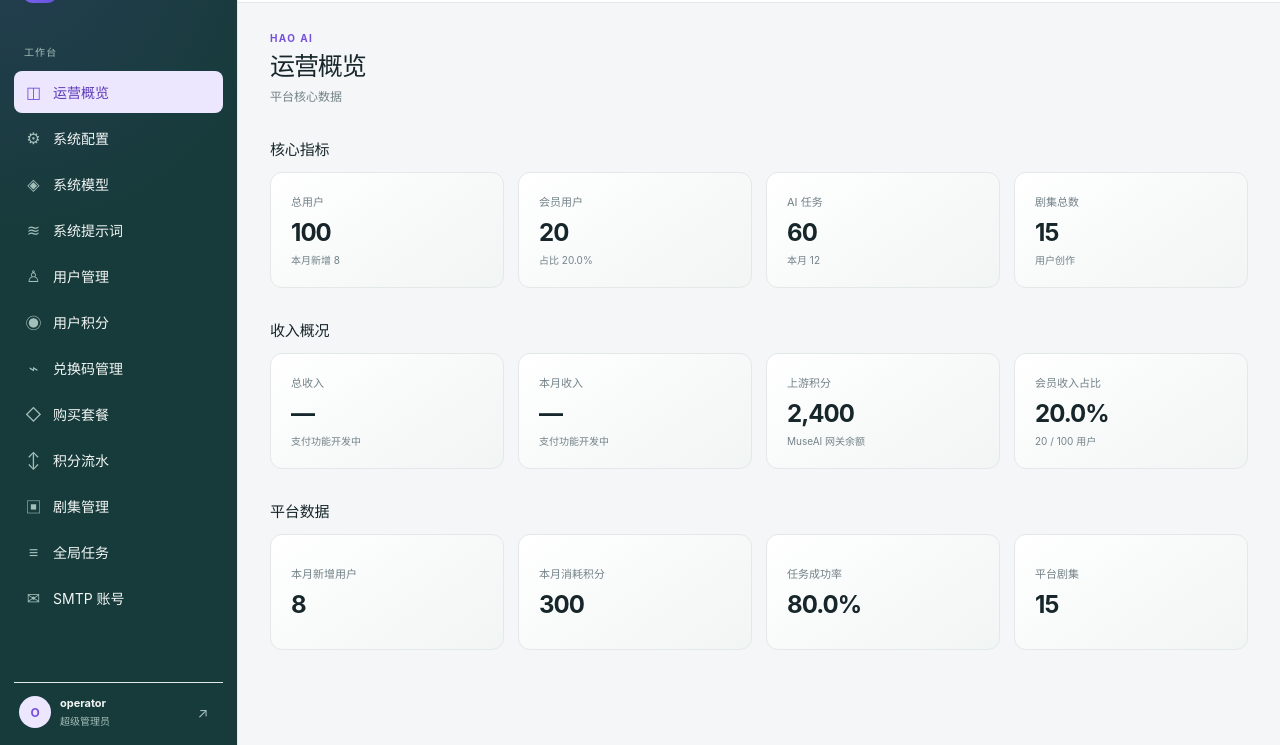
Scenario: admin feature user flows › loads the detail view and omits a blank masked API key from the update payload
Click the button "◈ 系统模型": (118, 184) 14,163 -> 223,205
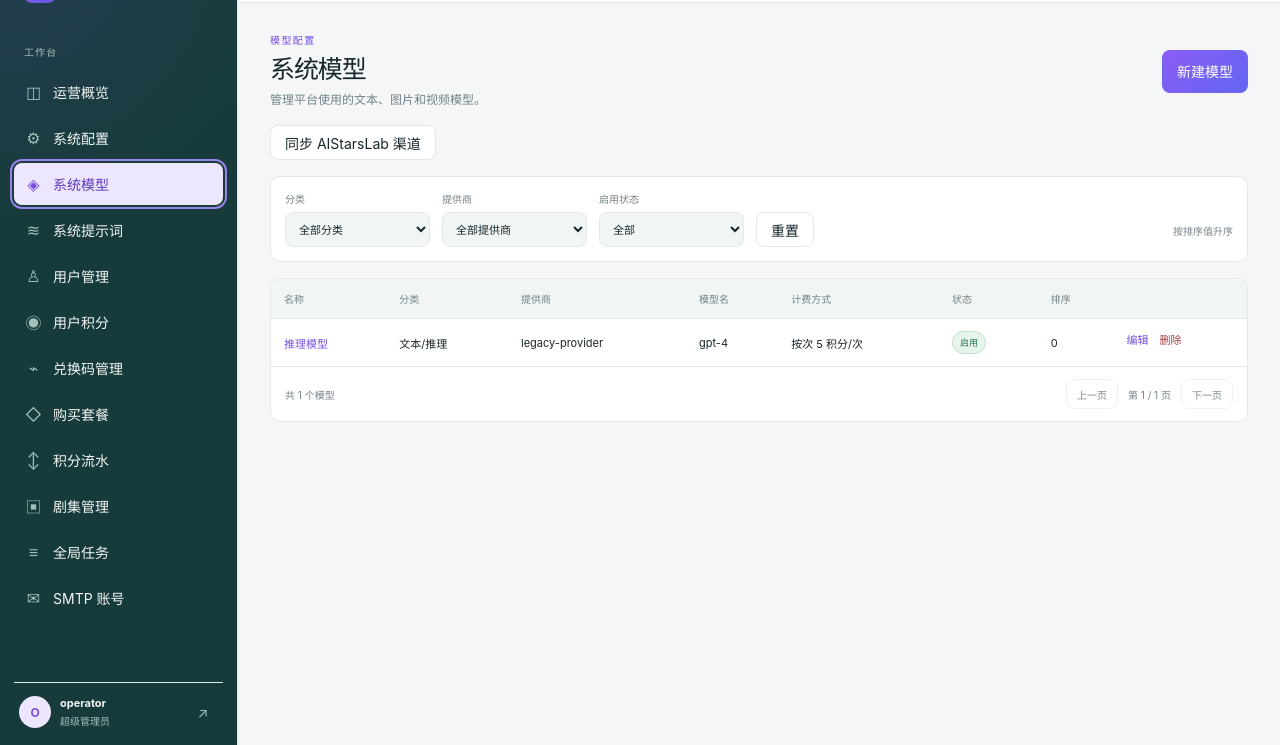
Click the button "推理模型": (306, 343) 284,335 -> 328,351
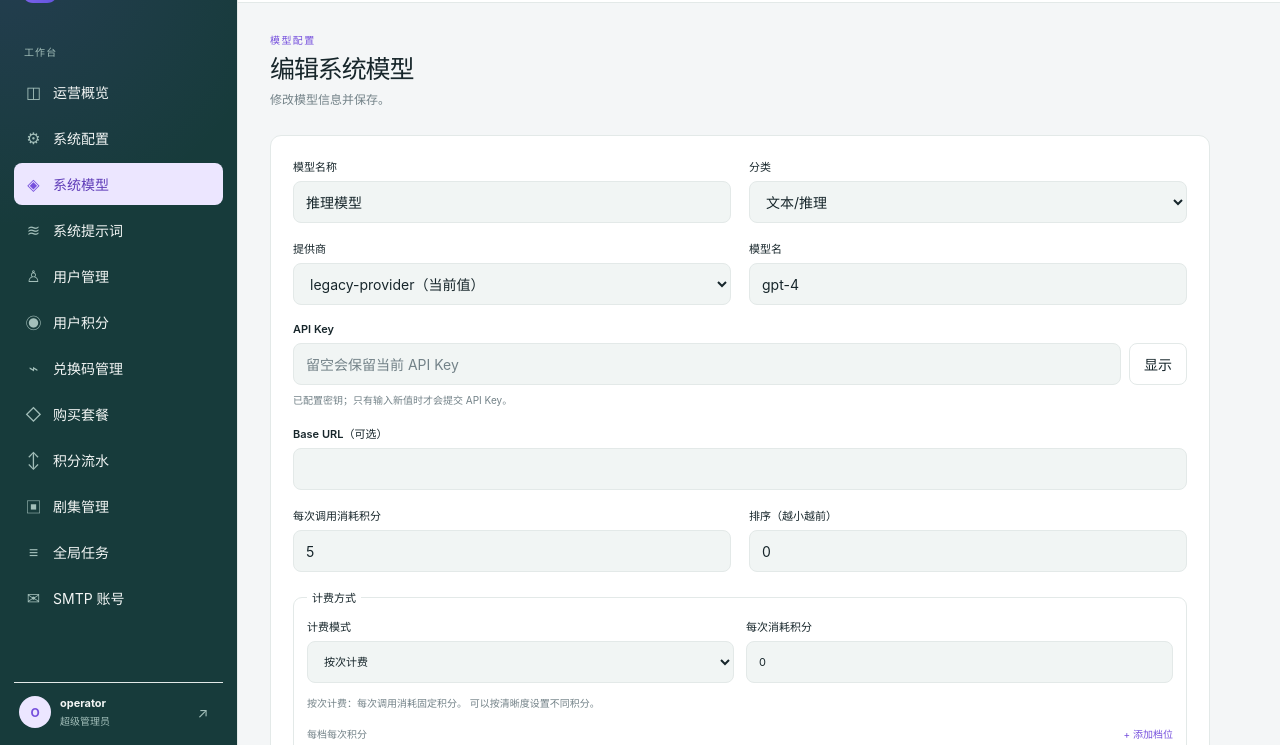
Now the dropdown labelled "提供商" shows "legacy-provider（当前值）", box 293,263 -> 731,305
Now the password field labelled "API Key" is empty, box 293,343 -> 1121,385
Now the text "已配置密钥；只有输入新值时才会提交 API Key。" is shown, box 293,394 -> 512,406
Replace the text in the field labelled "模型名称" with "修改后名称": (512, 202) 293,181 -> 731,223
(page scrolled)
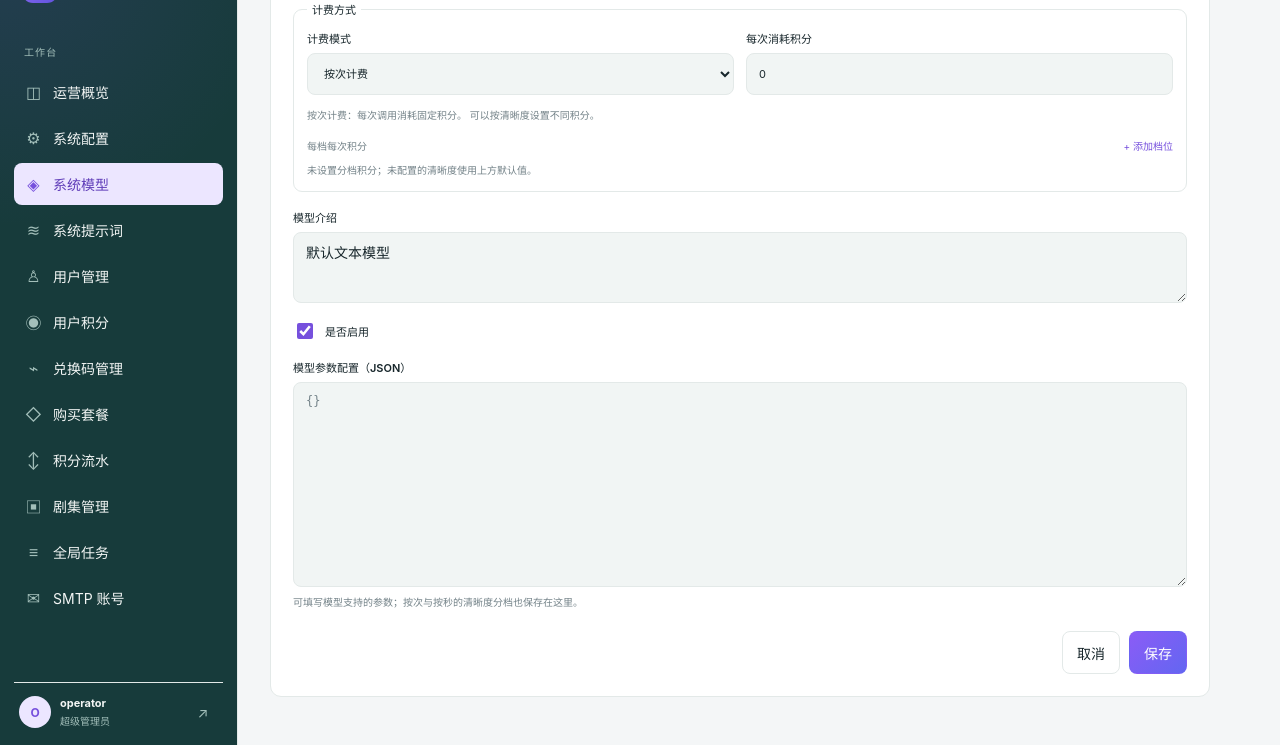
Click the button "保存": (1158, 653) 1129,631 -> 1187,674
(page scrolled)
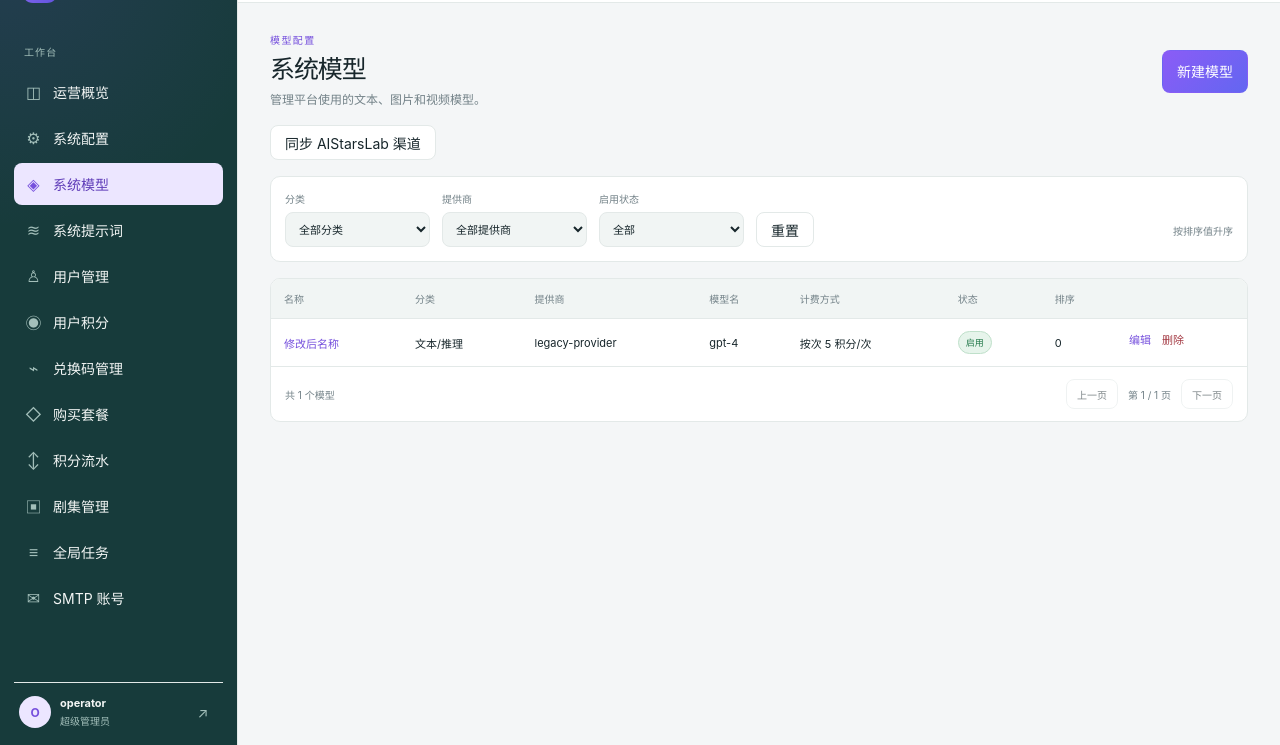
Now the button "修改后名称" is shown, box 284,335 -> 339,351
